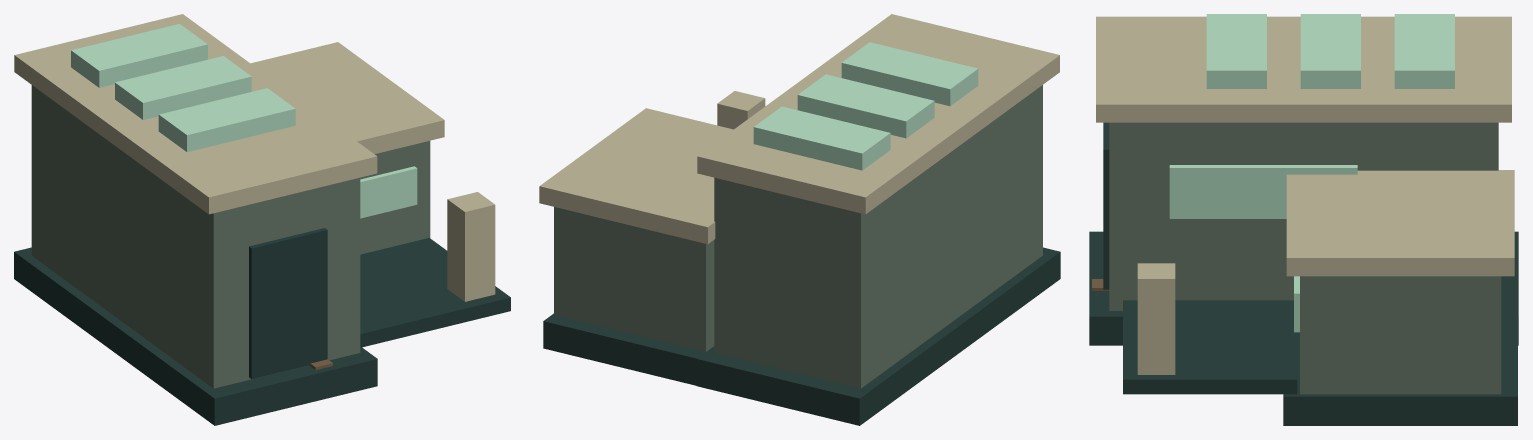
File: lab-weathered.glb
3 views of the same model, side by side, from view 1: azimuth 30°, elevation 25°; view 2: azimuth 150°, elevation 25°; view 3: azimuth 270°, elevation 25° (orthographic). The views are drawn at different scales.
Parts seen in each view (by area): view 1: lab-weathered; view 2: lab-weathered; view 3: lab-weathered.
Boxes of the visible parts, box(x1,y1,x2,y2) form: lab-weathered: box(14, 14, 510, 425); lab-weathered: box(539, 14, 1060, 425); lab-weathered: box(1089, 14, 1518, 425).
Size of the model in its own units: 2.99 by 2.15 by 3.2.
